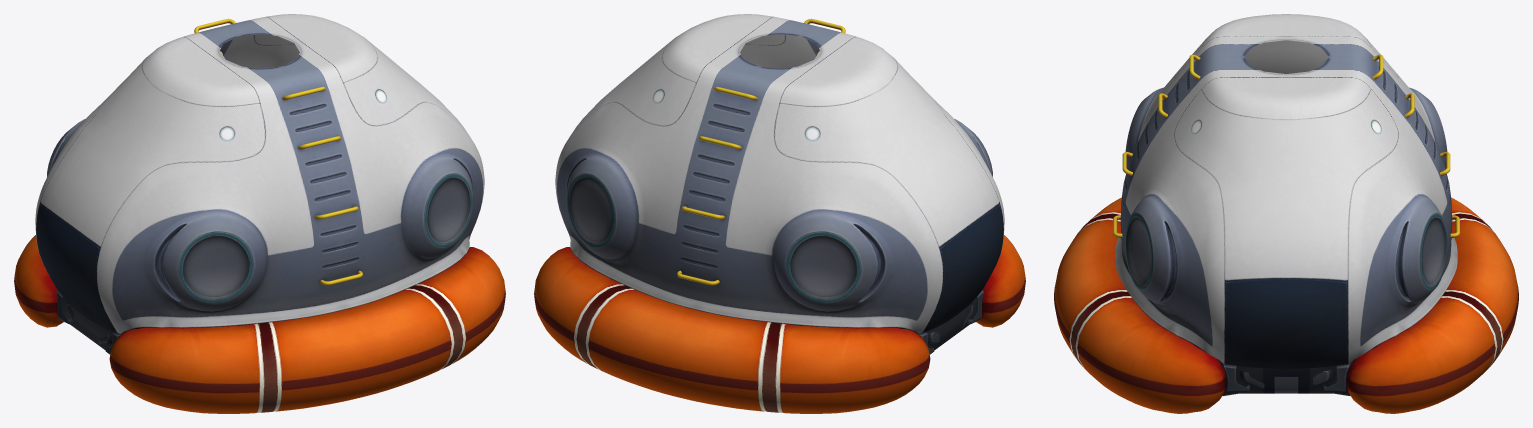
Rendered from life_pod_damaged_2.fbx.
3 views of the same model, side by side, from view 1: azimuth 30°, elevation 25°; view 2: azimuth 150°, elevation 25°; view 3: azimuth 270°, elevation 25° (orthographic).
Visible parts, largest first — view 1: SubMesh_0; view 2: SubMesh_0; view 3: SubMesh_0.
Boxes of the visible parts, x1,y1,x2,y2 form: SubMesh_0: [14, 14, 505, 413]; SubMesh_0: [534, 14, 1025, 413]; SubMesh_0: [1054, 14, 1518, 413].
Size of the model in its own units: 20.75 by 13.6 by 20.39.
Materials: 1 (1 with a texture image).
